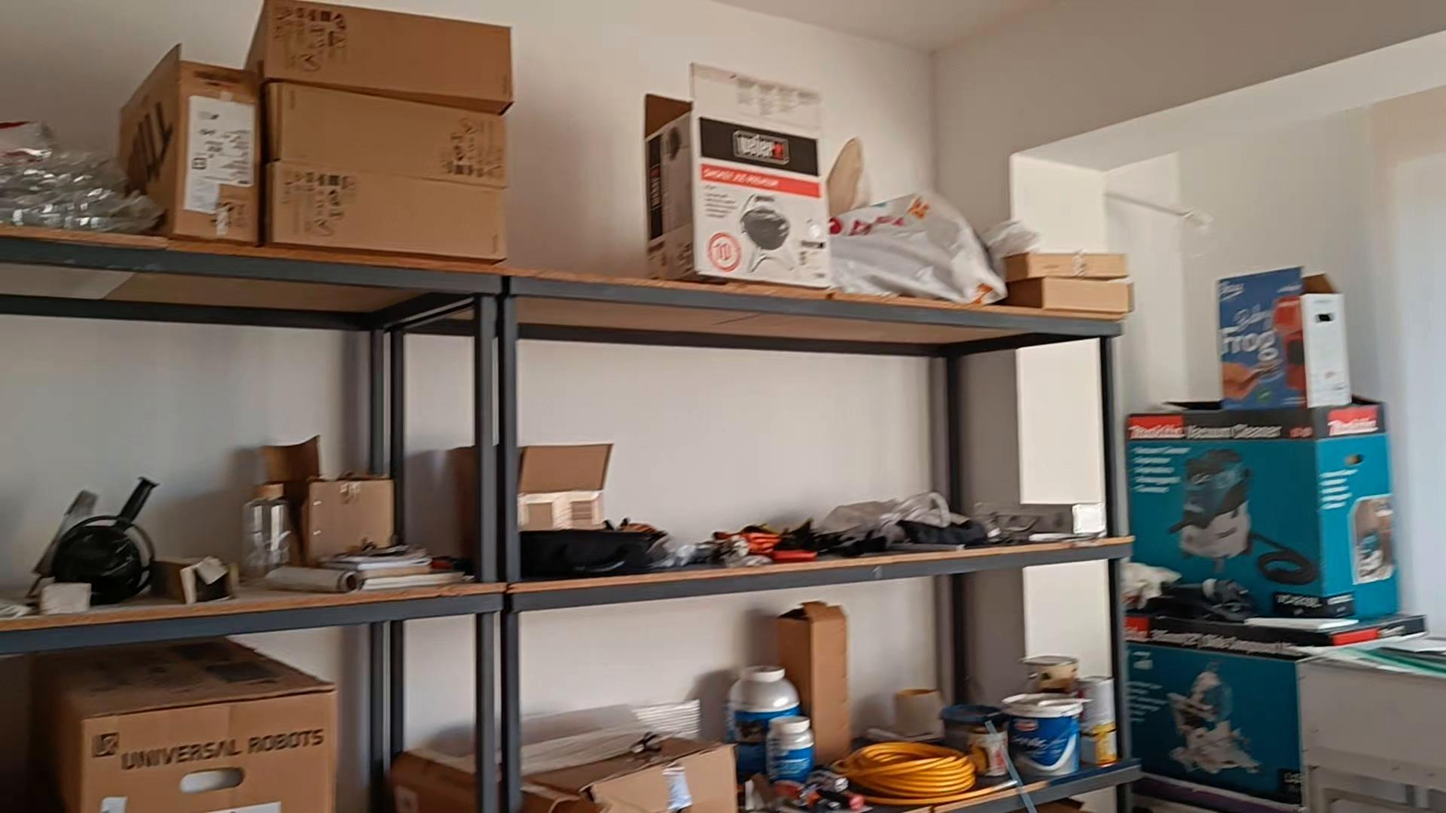ceiling: (713, 0, 1056, 50)
wall: (391, 3, 1445, 404), (0, 319, 369, 593), (521, 350, 944, 509), (0, 5, 283, 141), (512, 596, 764, 719), (959, 346, 1097, 504)
